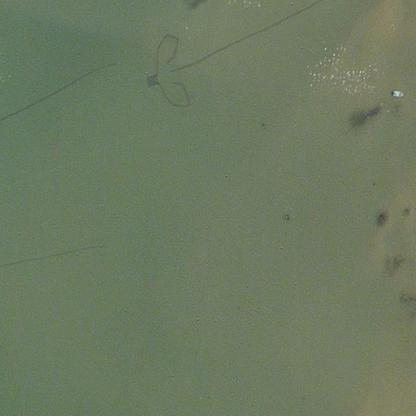ship: (387, 85, 405, 99)
